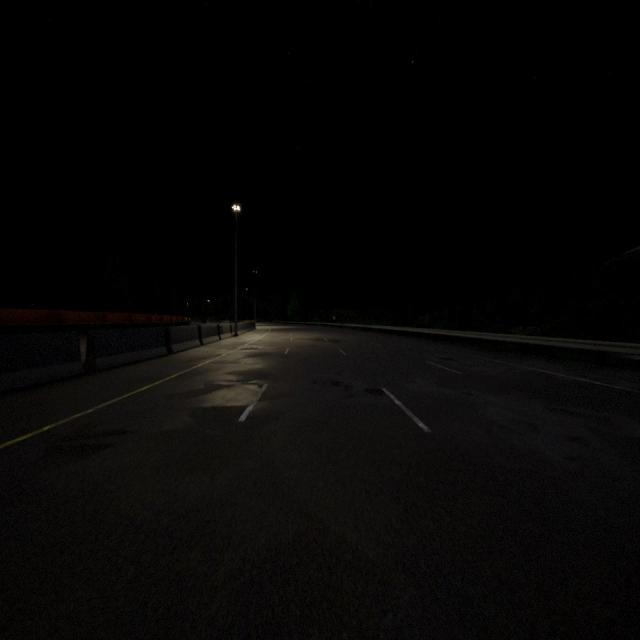Traffic_Signs: (332, 316, 336, 320)
